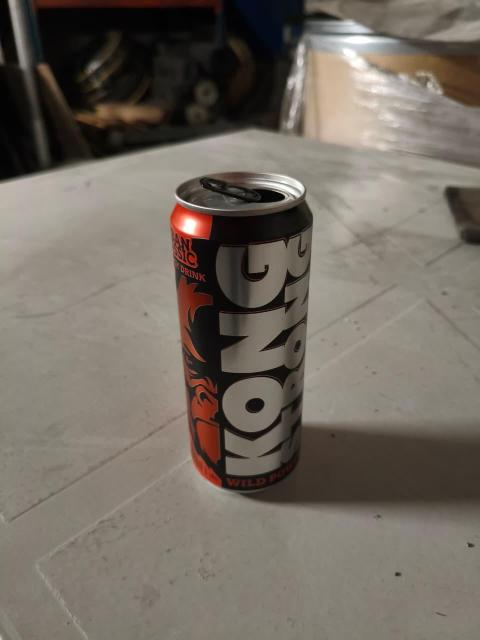Metal: (168, 168, 317, 497)
